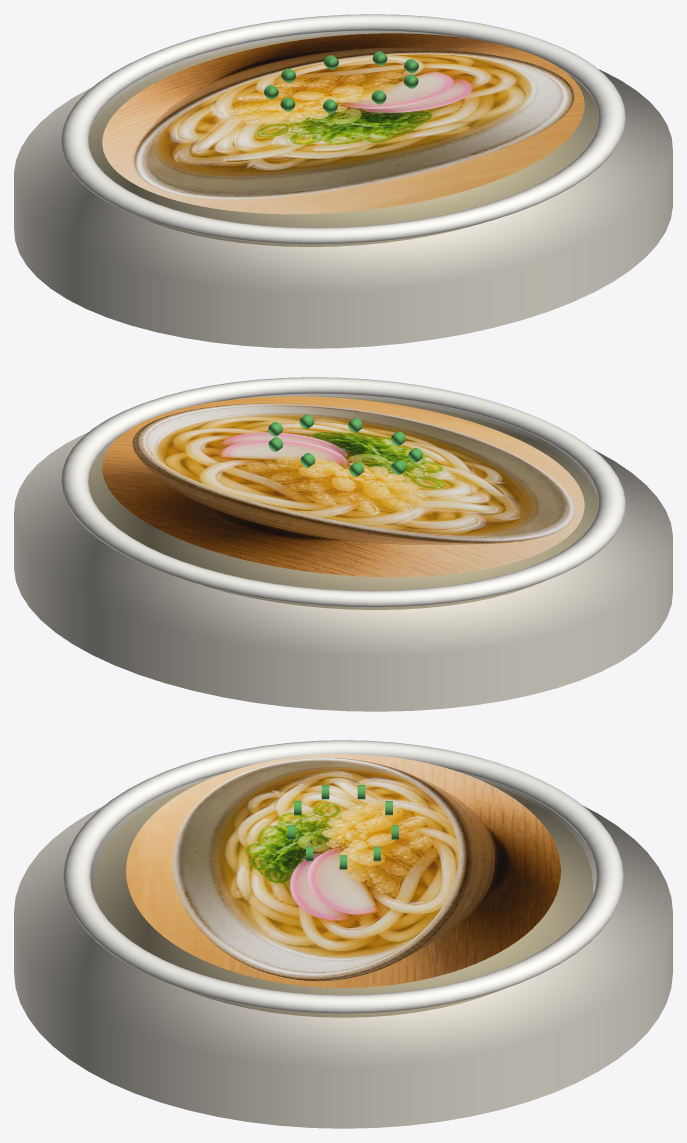
File: udon.glb
The picture shows the model from 3 angles, top to bottom: view 1: azimuth 30°, elevation 25°; view 2: azimuth 150°, elevation 25°; view 3: azimuth 270°, elevation 25°; orthographic projection. The views are drawn at different scales.
Size of the model in its own units: 2.24 by 0.5128 by 2.
5 materials, 1 textured.
